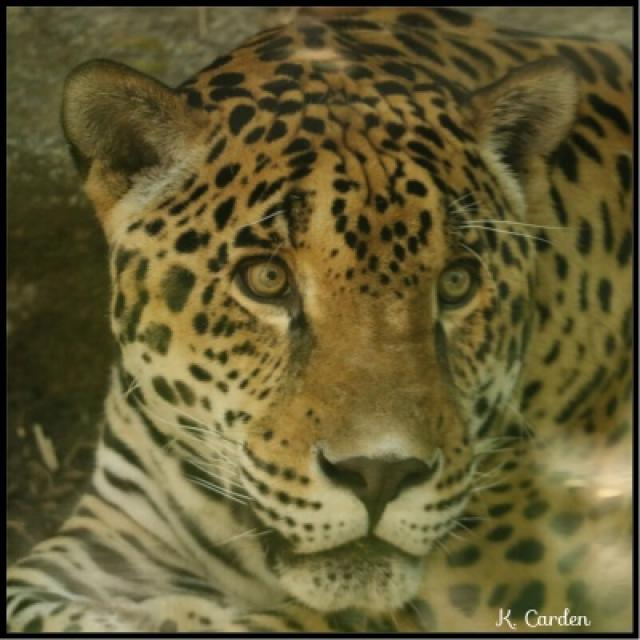Jaguar: (8, 10, 635, 635)
